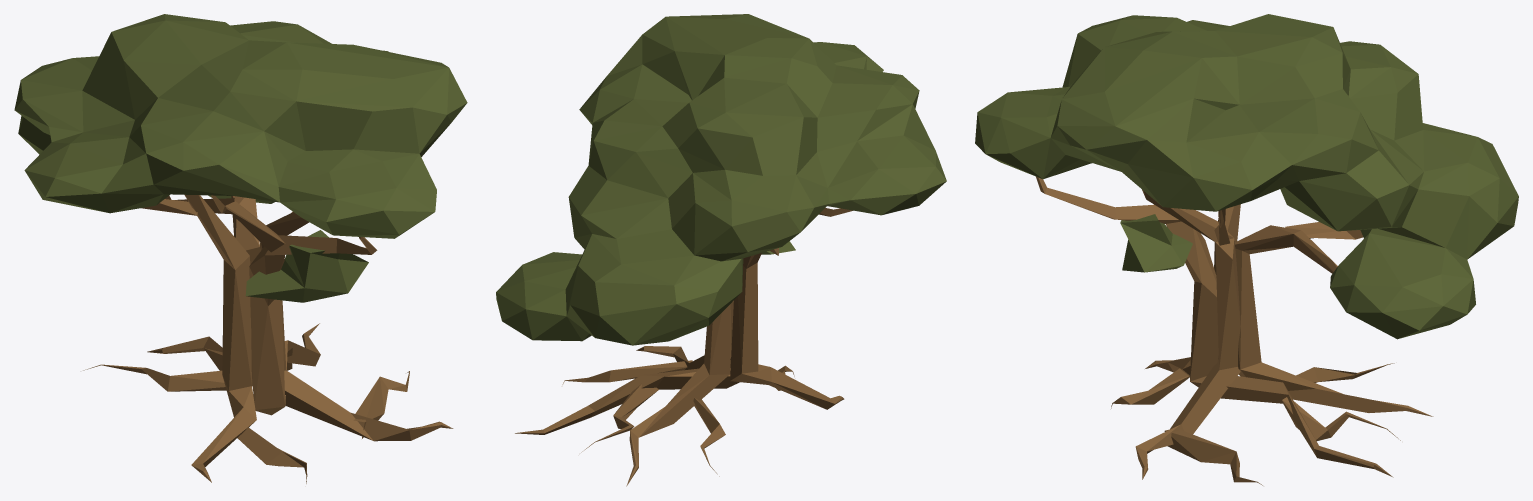
The model's file is mese.glb.
The picture shows the model from 3 angles, left to right: view 1: azimuth 30°, elevation 25°; view 2: azimuth 150°, elevation 25°; view 3: azimuth 270°, elevation 25°; orthographic projection. The views are drawn at different scales.
Parts seen in each view (by area): view 1: Mball.017_Mesh; view 2: Mball.017_Mesh; view 3: Mball.017_Mesh.
Boxes of the visible parts, x1,y1,x2,y2 form: Mball.017_Mesh: (14, 14, 467, 483); Mball.017_Mesh: (496, 14, 946, 486); Mball.017_Mesh: (975, 14, 1518, 485).
Size of the model in its own units: 4.7 by 4.48 by 6.02.
